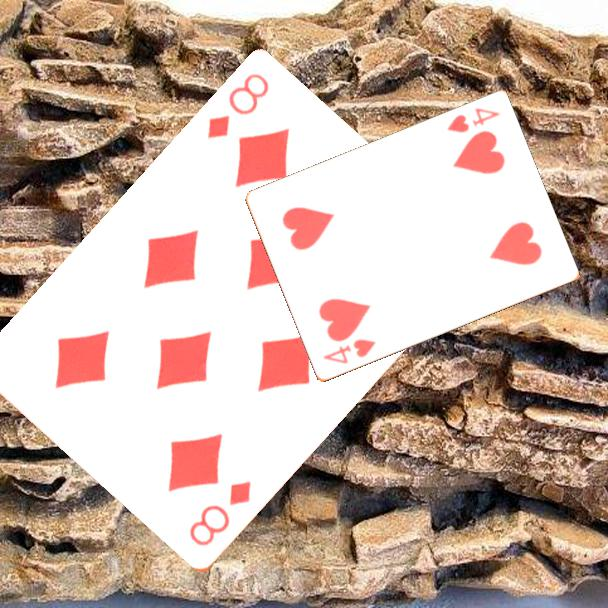d08: (203, 70, 273, 143), (185, 478, 255, 550)
h04: (443, 105, 503, 136), (319, 336, 378, 367)
